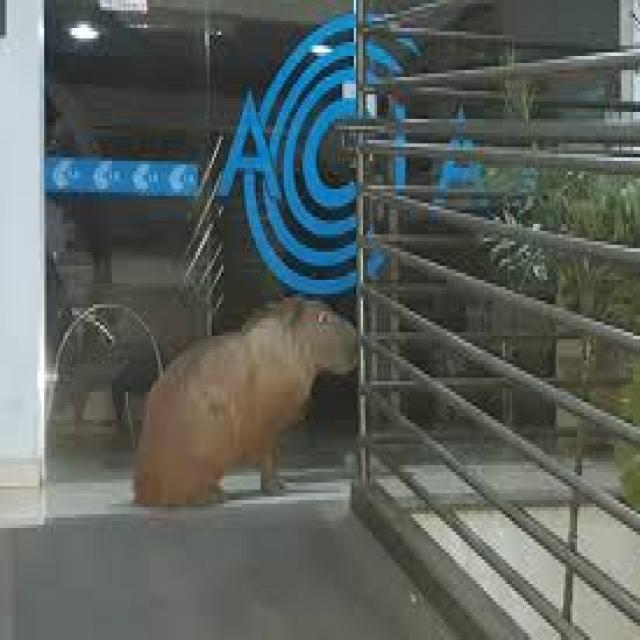capy: (134, 294, 358, 508)
